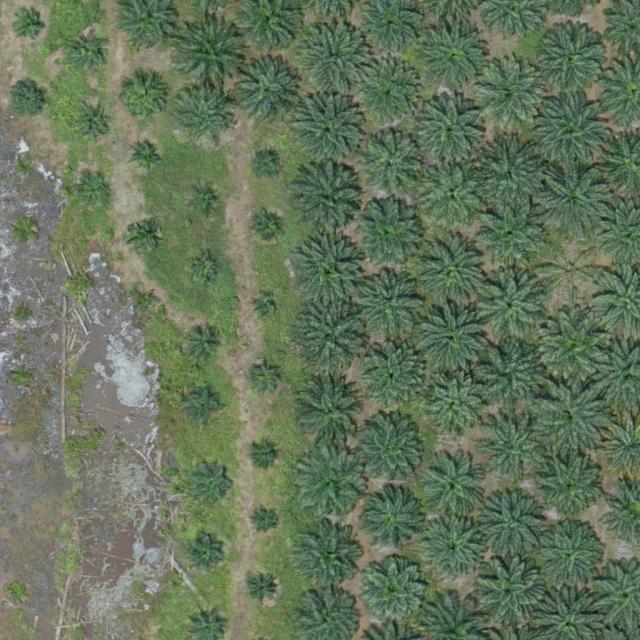Healthy: (418, 21, 496, 100), (409, 88, 487, 167), (295, 237, 366, 308), (296, 301, 367, 372), (357, 556, 428, 627), (297, 451, 368, 522), (537, 22, 607, 93), (302, 22, 372, 93), (177, 22, 247, 93), (230, 57, 301, 127), (296, 373, 367, 443), (350, 57, 421, 127), (419, 157, 489, 228), (473, 340, 543, 411), (475, 200, 546, 270), (476, 57, 546, 128), (538, 95, 608, 166), (539, 164, 609, 235), (538, 311, 608, 382), (535, 385, 606, 455), (533, 450, 603, 521), (354, 416, 424, 487), (293, 525, 363, 596), (294, 98, 364, 168), (294, 168, 364, 238), (355, 199, 425, 269), (359, 127, 429, 197), (421, 235, 491, 305), (418, 302, 488, 372), (478, 273, 548, 343), (472, 139, 542, 209), (478, 413, 548, 483), (476, 558, 546, 628), (362, 272, 425, 335), (425, 377, 488, 440), (539, 526, 602, 589), (424, 517, 487, 580), (365, 343, 427, 406), (481, 491, 543, 554), (424, 459, 486, 522), (364, 489, 427, 551), (178, 89, 232, 144)
Small: (115, 72, 170, 127), (189, 459, 236, 506), (9, 78, 49, 118), (71, 35, 110, 75), (75, 104, 114, 144), (187, 325, 226, 365), (243, 569, 282, 609), (187, 538, 226, 577), (186, 386, 225, 425), (130, 137, 169, 176), (13, 11, 44, 43), (251, 361, 282, 393), (248, 439, 279, 471), (80, 179, 111, 210), (127, 219, 158, 250), (191, 254, 222, 285), (191, 186, 222, 217), (251, 506, 282, 537), (252, 149, 283, 180), (253, 213, 284, 244), (137, 290, 161, 314), (252, 295, 276, 319)
Yellow: (540, 241, 602, 304)
